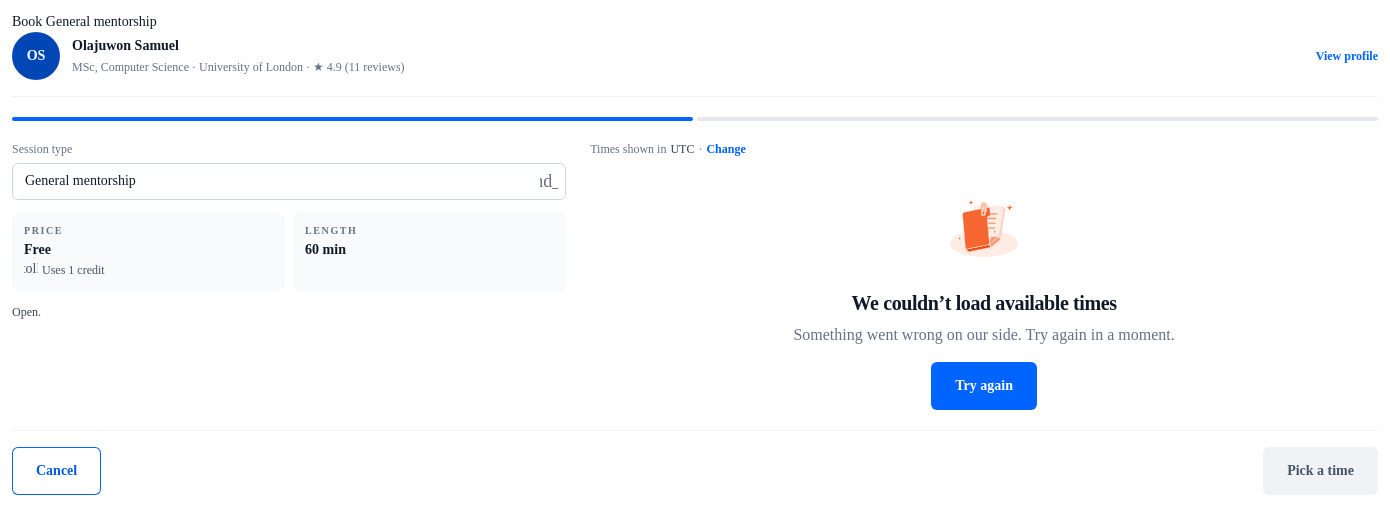
BookingFlow week view (7 days at a time) › a load error is not "time taken", and a successful retry picks the time
The width and height of the screenshot is (1390, 512).
Check: the dropdown holds "st1", box x1=12 y1=163 x2=566 y2=200
Check: the heading "We couldn’t load available times" is shown, box x1=852 y1=292 x2=1117 y2=314
Click the button "Try again": click(984, 386) x1=931 y1=362 x2=1037 y2=410
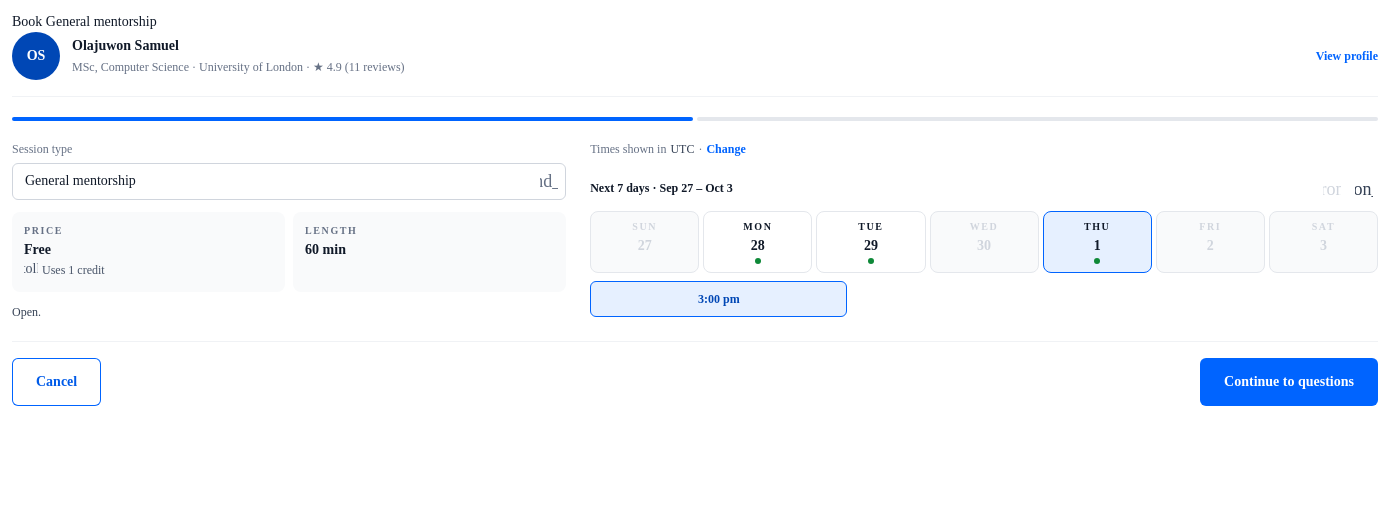
Check: the radio button with aria-label "Thu, Oct 1" is checked, box x1=1043 y1=211 x2=1152 y2=274
Check: the radio button labelled "3:00 pm" is checked, box x1=590 y1=282 x2=848 y2=318
